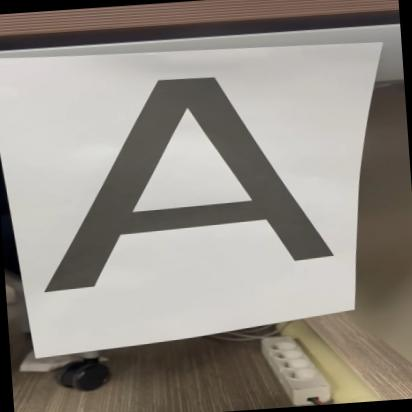seat: (1, 44, 355, 308)
